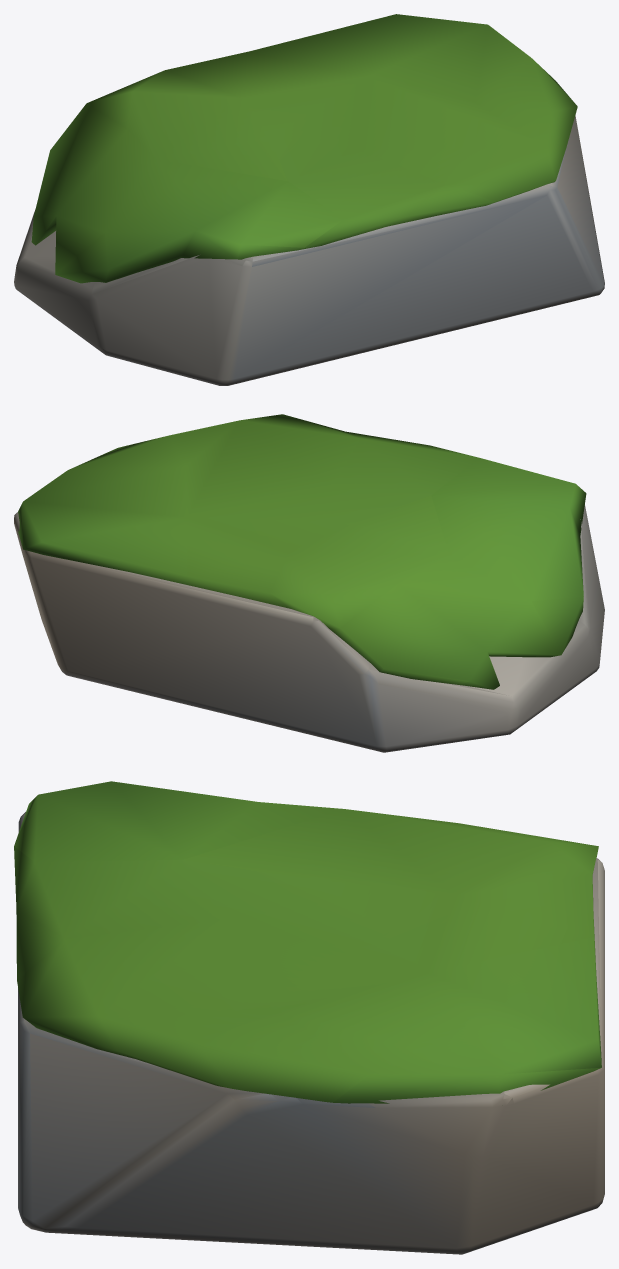
The model's file is grotto_rock_b_lod2.glb.
3 views of the same model, one above another, from view 1: azimuth 30°, elevation 25°; view 2: azimuth 150°, elevation 25°; view 3: azimuth 270°, elevation 25° (orthographic). The views are drawn at different scales.
Parts seen in each view (by area): view 1: moss.001, grotto_rock_b.001; view 2: moss.001, grotto_rock_b.001; view 3: moss.001, grotto_rock_b.001.
Part boxes in pixels (x1,y1,x2,y2): moss.001: [31, 14, 577, 283]; grotto_rock_b.001: [14, 115, 604, 385]; moss.001: [18, 414, 586, 689]; grotto_rock_b.001: [14, 505, 604, 752]; moss.001: [14, 781, 601, 1103]; grotto_rock_b.001: [18, 812, 604, 1254].
Size of the model in its own units: 5.03 by 1.31 by 3.62.
